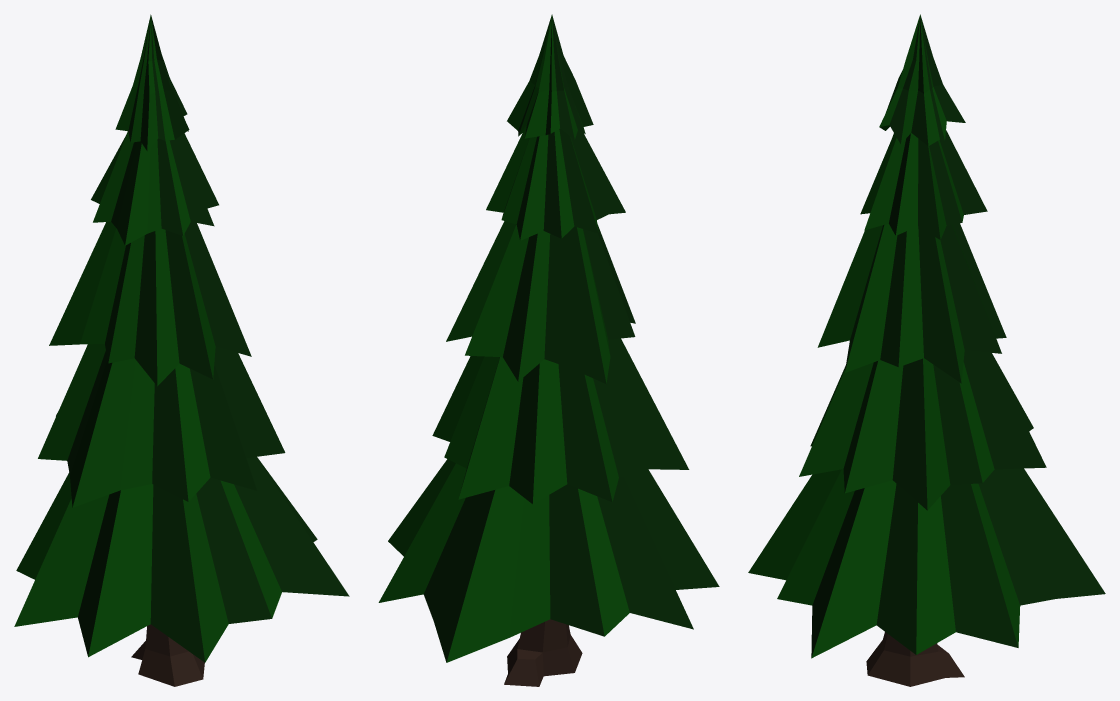
Rendered from Tree05.fbx.
The picture shows the model from 3 angles, left to right: view 1: azimuth 30°, elevation 25°; view 2: azimuth 150°, elevation 25°; view 3: azimuth 270°, elevation 25°; orthographic projection.
Visible parts, largest first — view 1: Tree09; view 2: Tree09; view 3: Tree09.
Boxes of the visible parts, box(x1,y1,x2,y2) form: Tree09: box(14, 14, 349, 686); Tree09: box(378, 14, 719, 686); Tree09: box(748, 14, 1105, 686).
Size of the model in its own units: 1.31 by 2.71 by 1.35.
